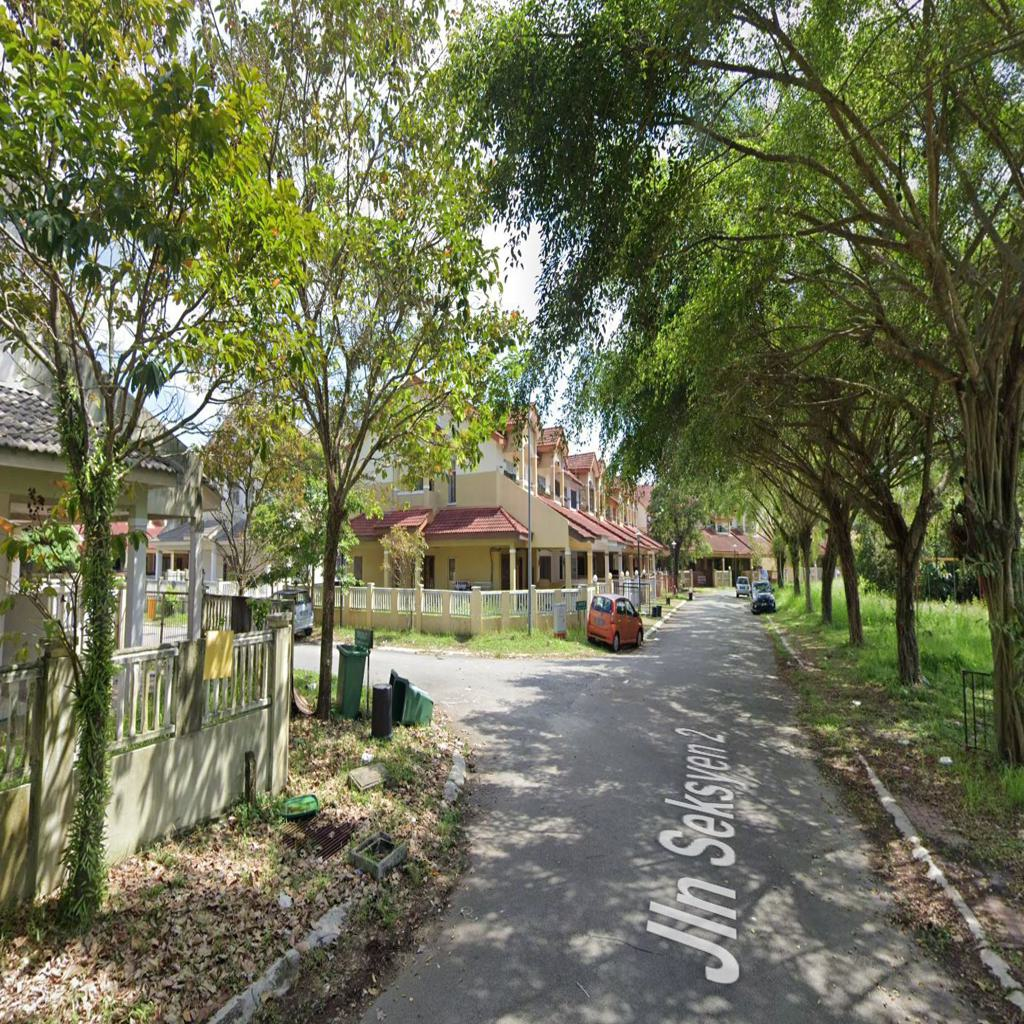Junction: (373, 624, 627, 834)
